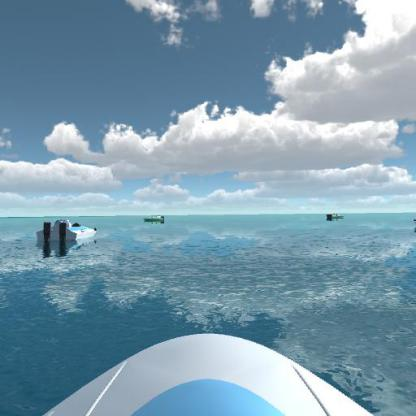usv0: (324, 210, 346, 226), (142, 214, 166, 226)
usv1: (32, 216, 98, 249)
